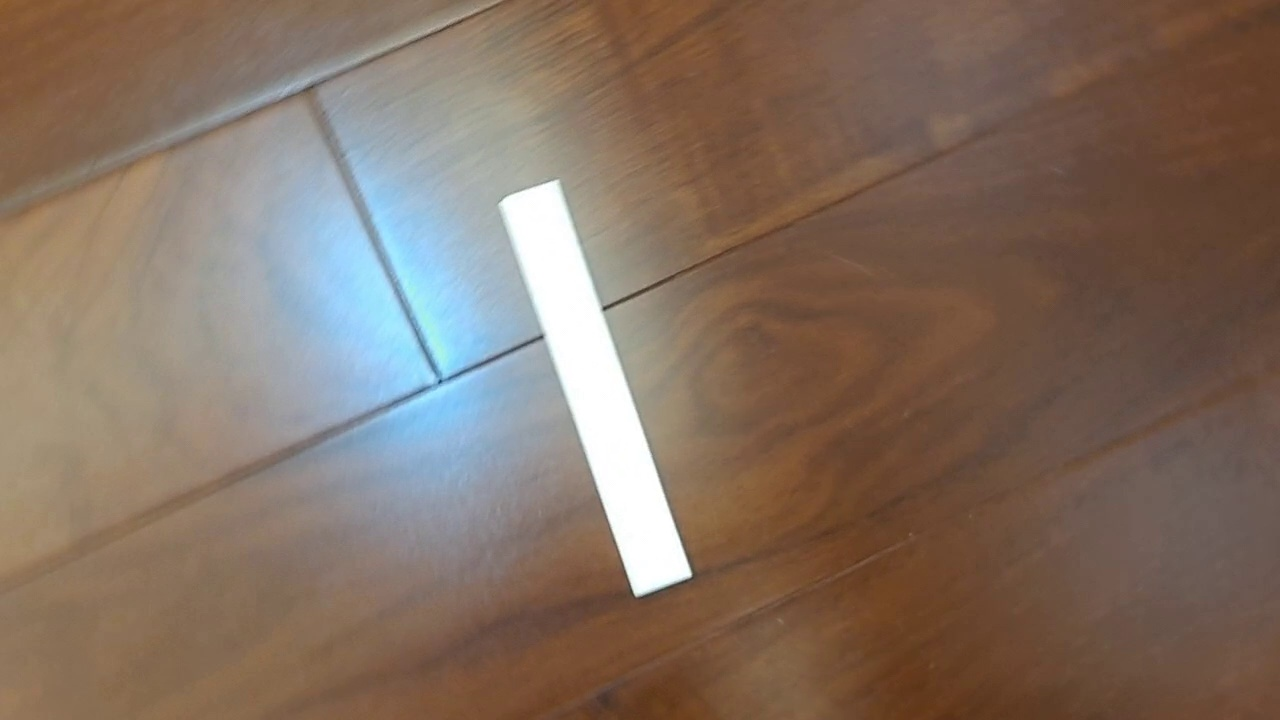ruler: (497, 177, 694, 600)
